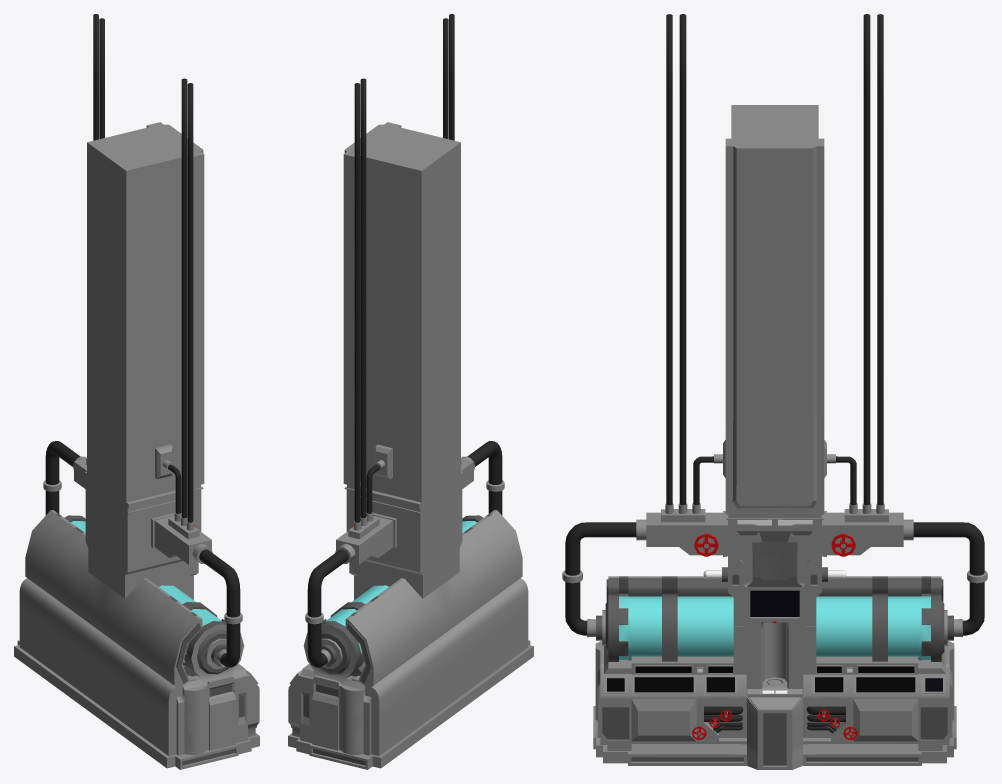
File: Generator.fbx
3 views of the same model, side by side, from view 1: azimuth 30°, elevation 25°; view 2: azimuth 150°, elevation 25°; view 3: azimuth 270°, elevation 25° (orthographic). The views are drawn at different scales.
Visible parts, largest first — view 1: Generator; view 2: Generator; view 3: Generator.
Boxes of the visible parts, left/top/right/bottom form: Generator: left=14, top=14, right=259, bottom=769; Generator: left=288, top=14, right=533, bottom=769; Generator: left=562, top=14, right=987, bottom=769.
Bounding box in the file's own units: 150 × 887 × 470.
